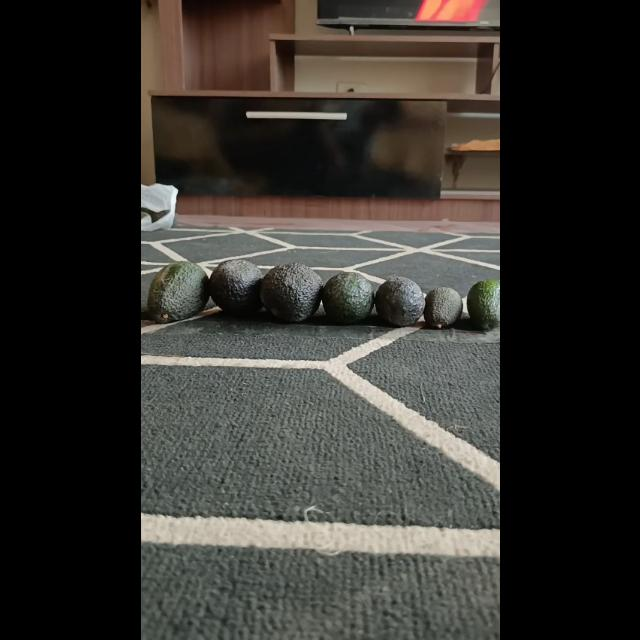Primera: (146, 261, 210, 323), (259, 262, 323, 322), (207, 258, 265, 314)
Segunda: (320, 270, 374, 324), (374, 276, 426, 326), (465, 279, 499, 331)
Tercera: (422, 286, 463, 328)
